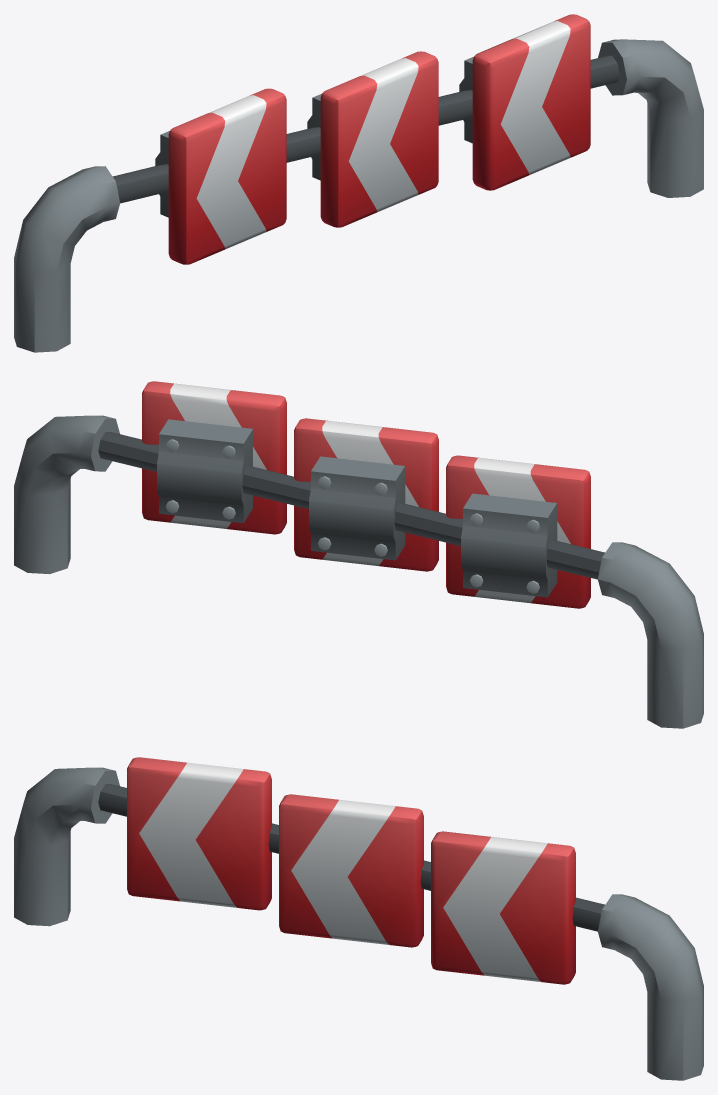
File: signage_arrows_left_red.glb
3 views of the same model, one above another, from view 1: azimuth 30°, elevation 25°; view 2: azimuth 150°, elevation 25°; view 3: azimuth 330°, elevation 25° (orthographic).
Parts seen in each view (by area): view 1: signage_arrows_left_red; view 2: signage_arrows_left_red; view 3: signage_arrows_left_red.
Boxes of the visible parts, <box> form: signage_arrows_left_red: <box>14,14,703,352</box>; signage_arrows_left_red: <box>14,381,703,728</box>; signage_arrows_left_red: <box>14,757,703,1080</box>.
Size of the model in its own units: 5.4 by 1.5 by 0.6771.
Materials: 1 (1 with a texture image).
